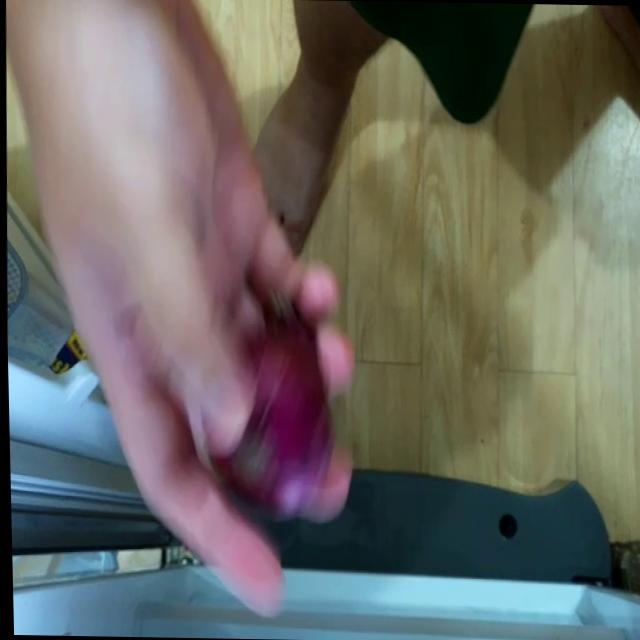onion: (201, 316, 327, 514)
